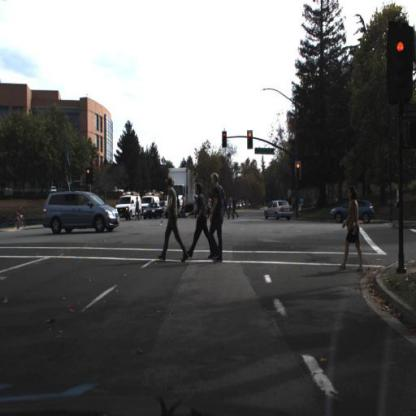biker: (13, 204, 29, 234), (15, 207, 27, 232)
car: (42, 188, 121, 233), (330, 199, 377, 226), (263, 200, 296, 223), (118, 194, 143, 219)
pedestrian: (341, 185, 366, 273), (159, 176, 184, 262), (187, 183, 211, 263), (210, 171, 226, 266), (94, 199, 103, 226), (136, 196, 141, 220)
trafficLight-Red: (295, 159, 303, 182), (247, 129, 254, 152)
trafficLight-RedLeft: (221, 127, 229, 150), (86, 166, 94, 185), (86, 168, 91, 185)
truck: (168, 166, 197, 216)
